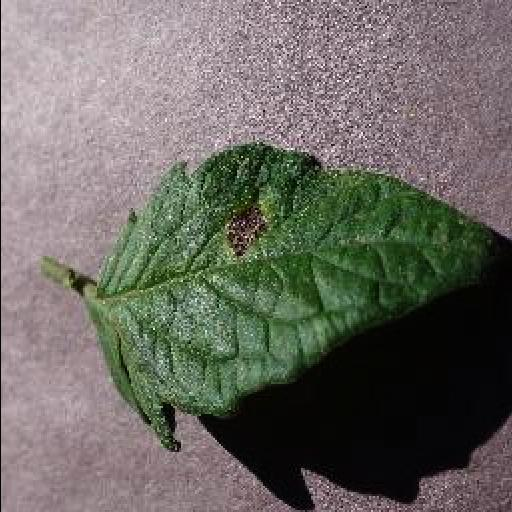disease_tomato: (82, 142, 500, 456)
